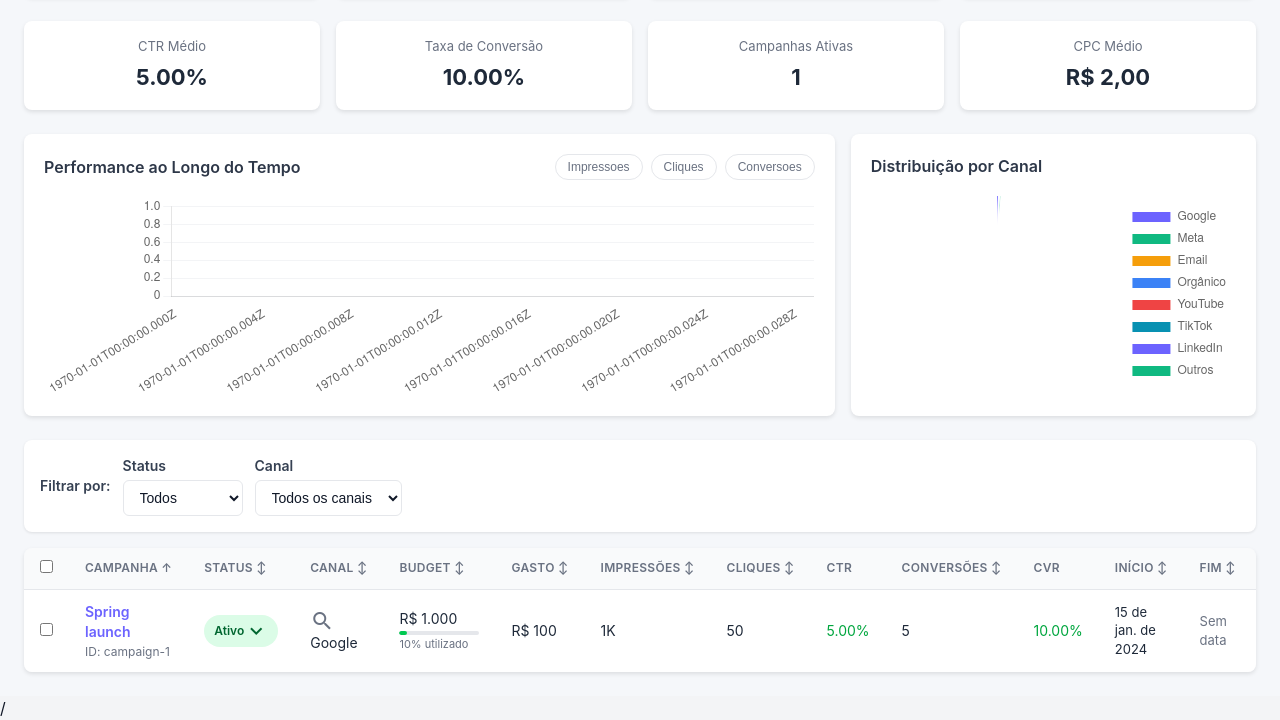
it: Dashboard › navigates to campaign details from the campaign modal
The image size is (1280, 720).
(page scrolled)
Step 1. Click the text "Spring launch" → (108, 621), box [85,602,131,640]
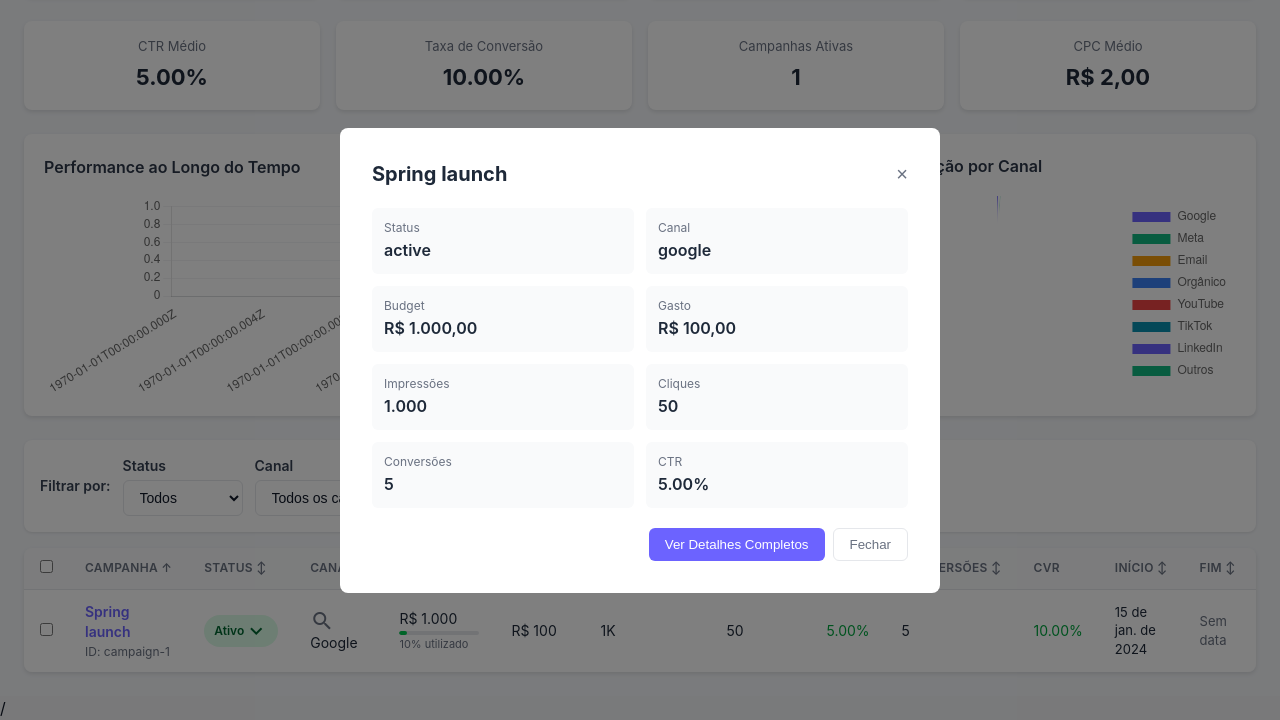
Step 2. Click the button "Ver Detalhes Completos" → (737, 544), box [649,528,824,560]
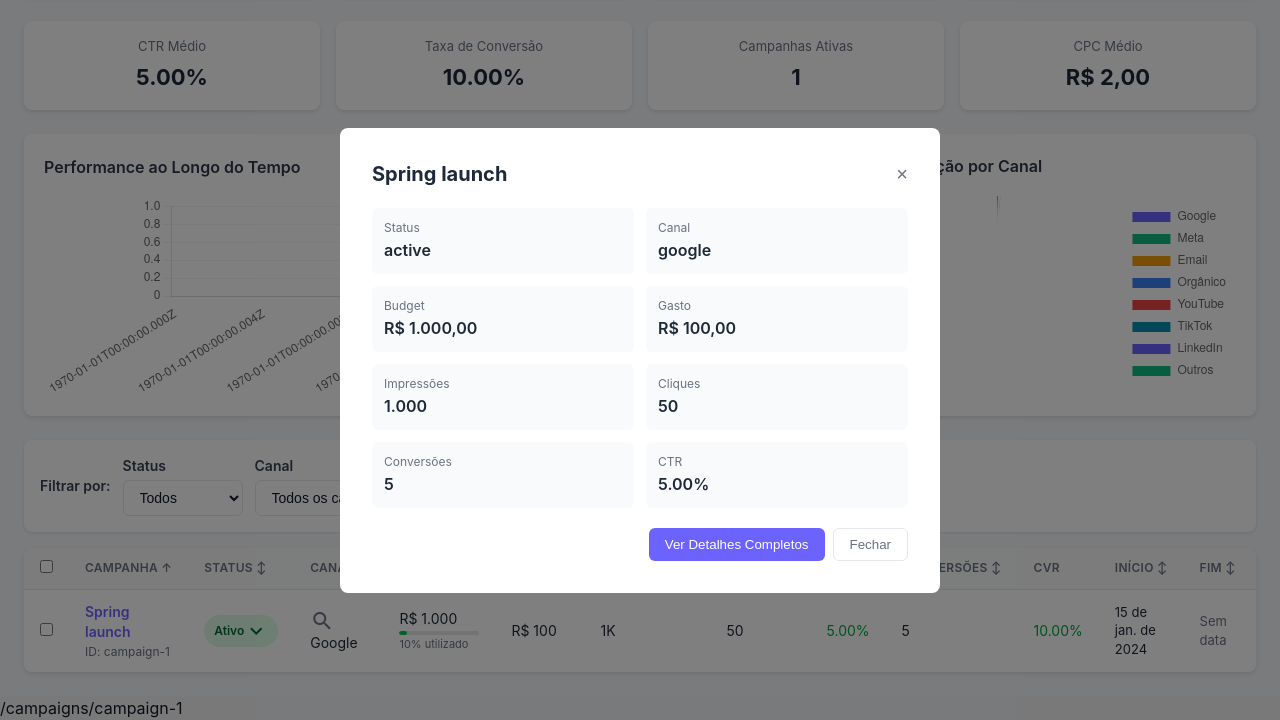
Result: the text with test id "location" reads "/campaigns/campaign-1" at [0,698,183,718]
